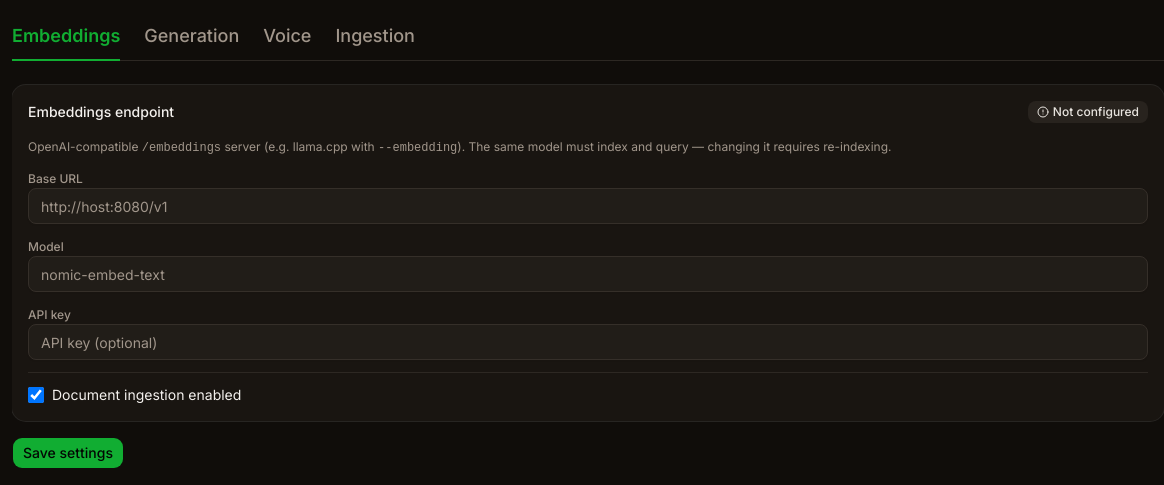
AiSettingsForm — ingestion failure reasons › reveals each failed document's stored reason when expanded
This screenshot has width=1164, height=485.
Click the tab "Ingestion".
click(375, 36)  # box [335,12,415,61]
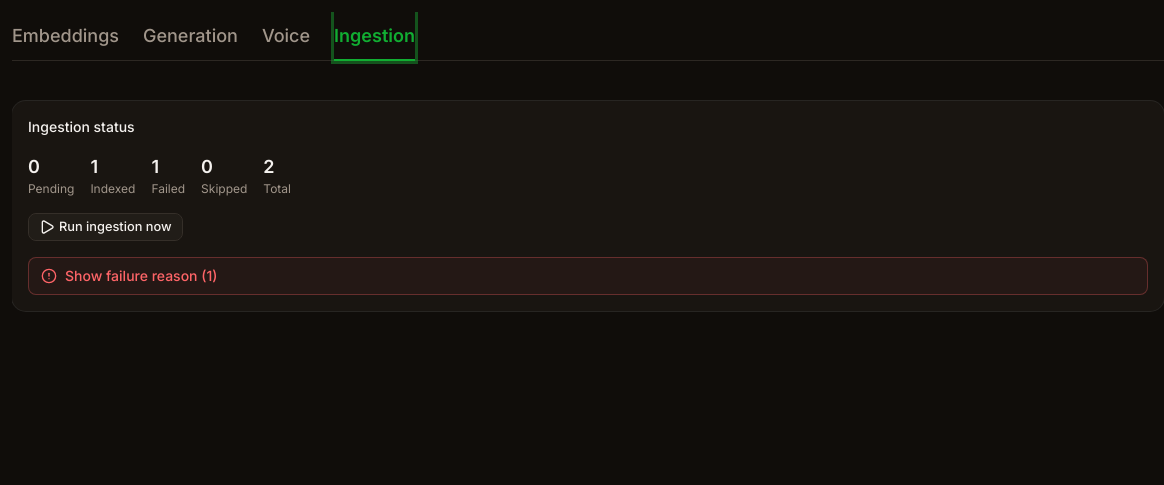
expect the text "ECONNREFUSED" is not shown: met
Click the button "Show failure reason (1)".
click(84, 276)  # box [29,258,1147,294]
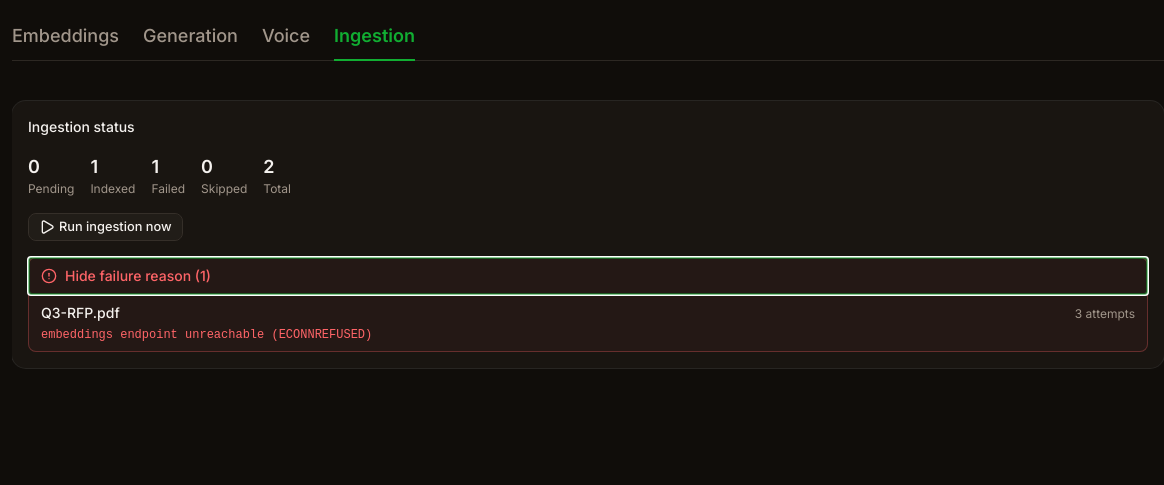
expect the text "Q3-RFP.pdf" is shown: met, box [41,303,120,323]
expect the text "embeddings endpoint unreachable (ECONNREFUSED)" is shown: met, box [41,328,372,342]
expect the text "3 attempts" is shown: met, box [1075,306,1135,322]
